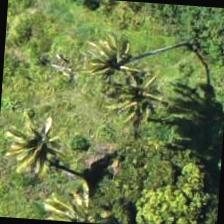Kelapa_Sawit: (67, 9, 163, 105), (84, 30, 180, 125), (0, 97, 83, 194), (41, 165, 136, 223)
